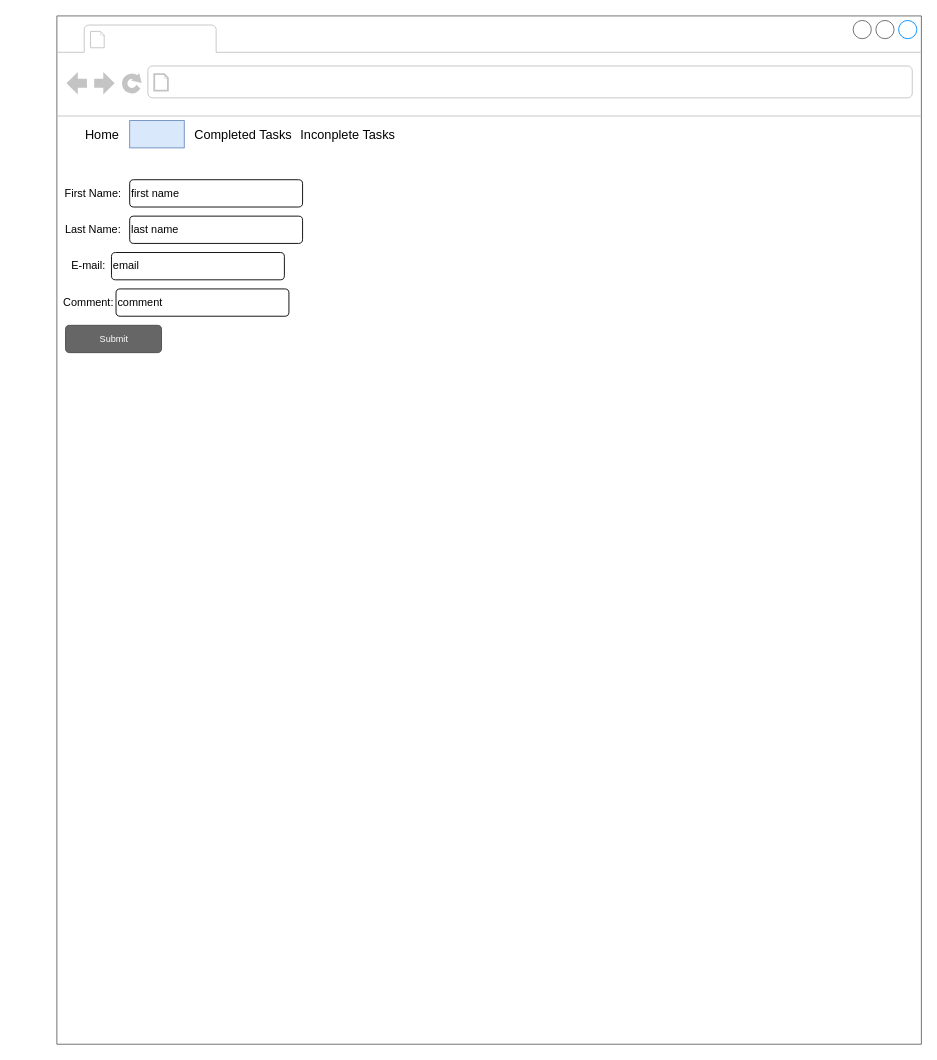
The diagram is 937 pixels wide and 1060 high, and some of its shapes have lost their labels. The box of each missing label's shape, as (x1, y1, x2, y2) in pixels:
Contact: (129, 120, 184, 148)
https://www.jungleroomcafé.com: (174, 70, 403, 94)
Page 1: (111, 26, 212, 51)
